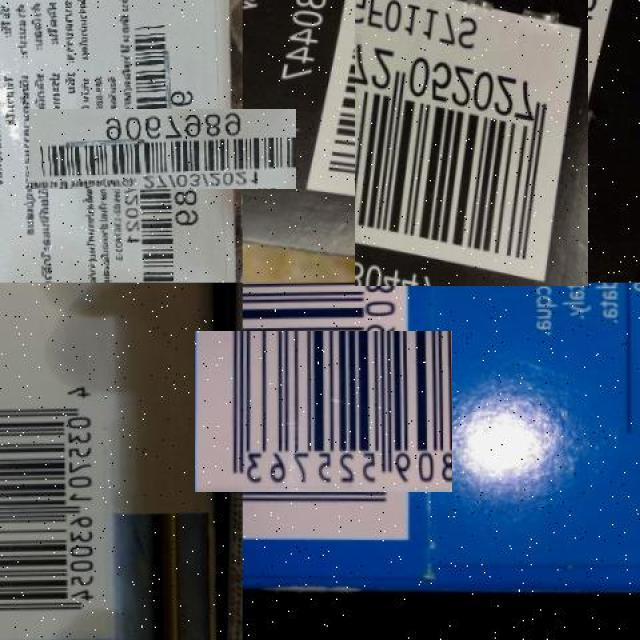Barcode: (328, 0, 614, 260), (219, 307, 429, 516), (76, 62, 250, 235), (0, 378, 113, 636)
